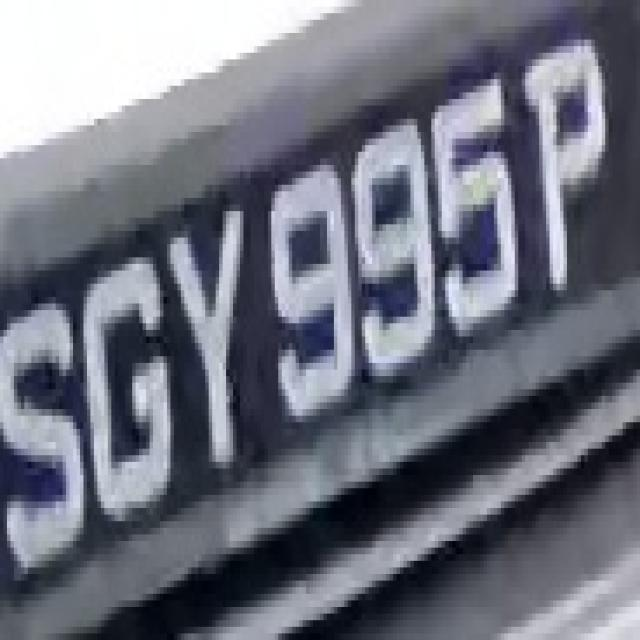5: (421, 66, 525, 350)
9: (257, 132, 362, 449), (338, 105, 446, 396)
G: (80, 238, 184, 554)
R: (518, 20, 616, 310)
S: (7, 258, 87, 600)
Y: (153, 198, 261, 495)
